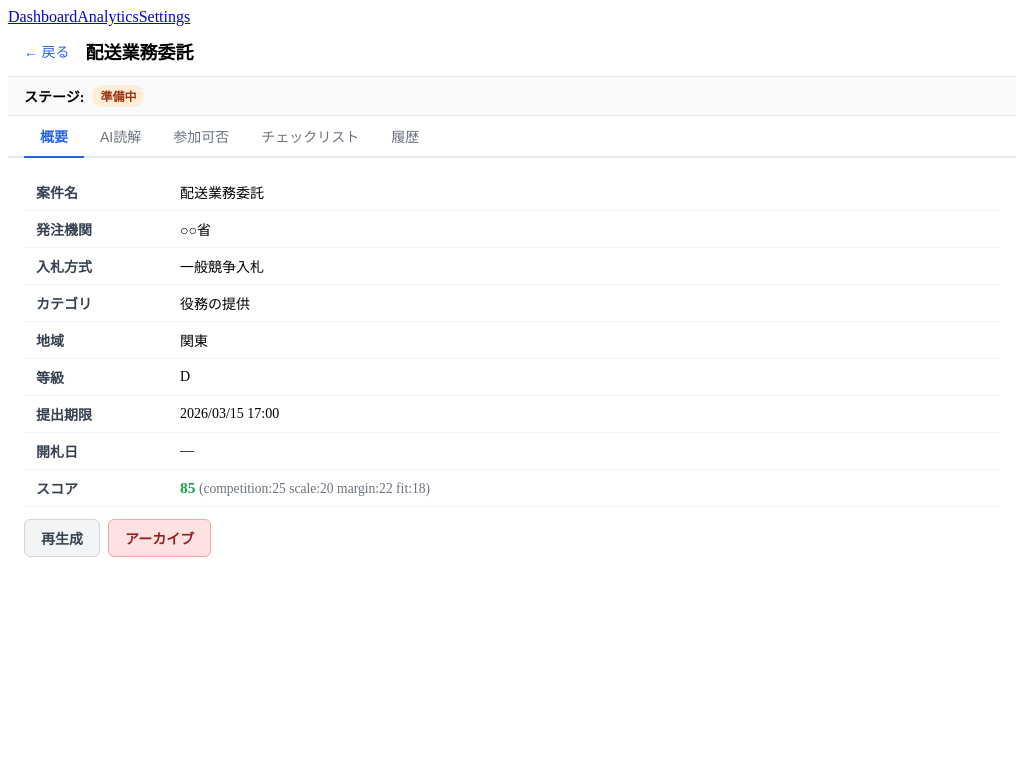
Test case: ChecklistTab — Progress › shows progress bar with correct values
Click the button with test id "tab-checklist".
click(310, 137)  # box 245,116 -> 375,158
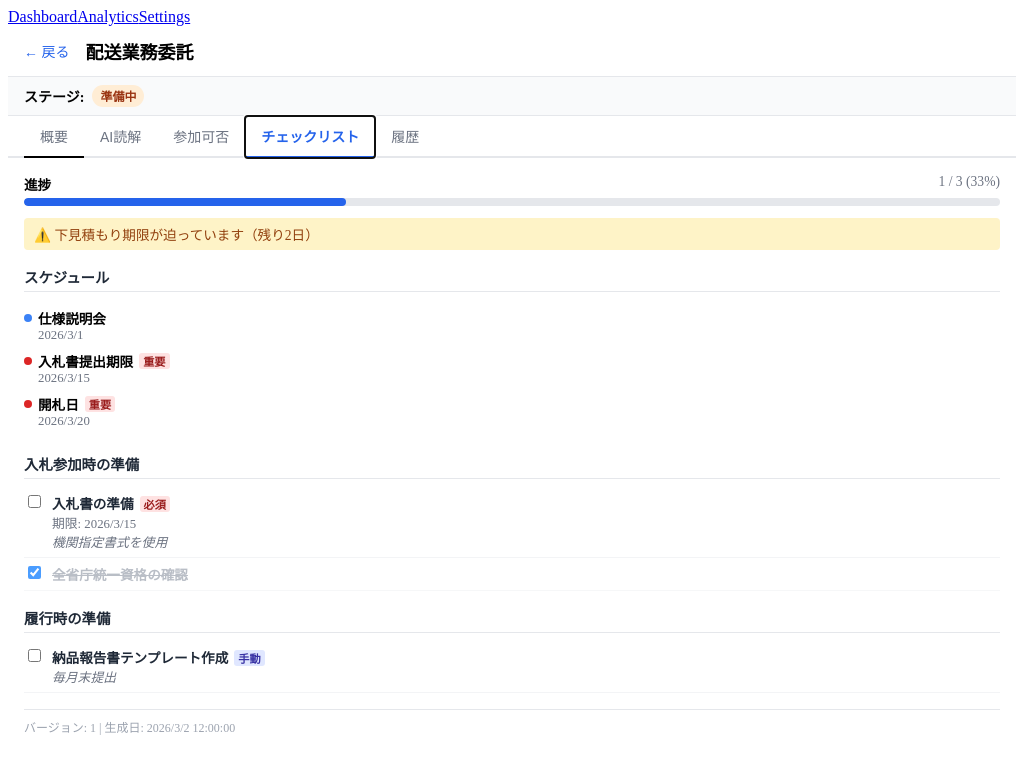
Expected: the element with test id "checklist-progress" shows "1 / 3", 24,174 -> 1000,206
Expected: the element with test id "checklist-progress" shows "33%", 24,174 -> 1000,206
